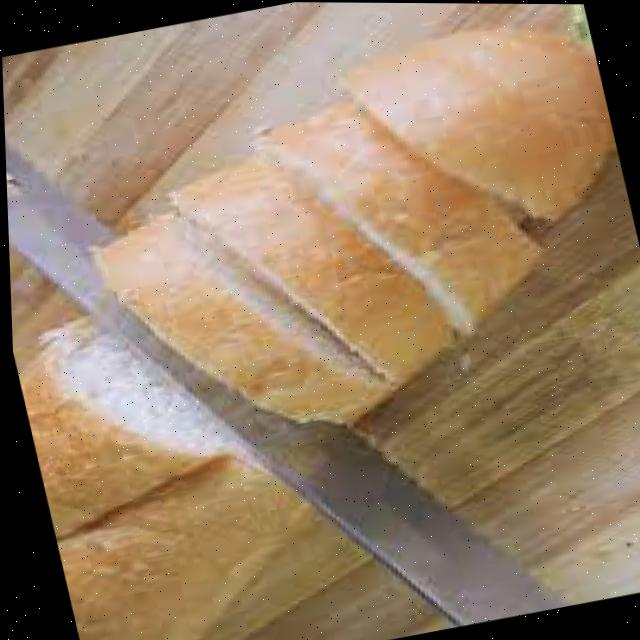Bread: (96, 101, 536, 422), (17, 317, 364, 640), (97, 223, 389, 422)
